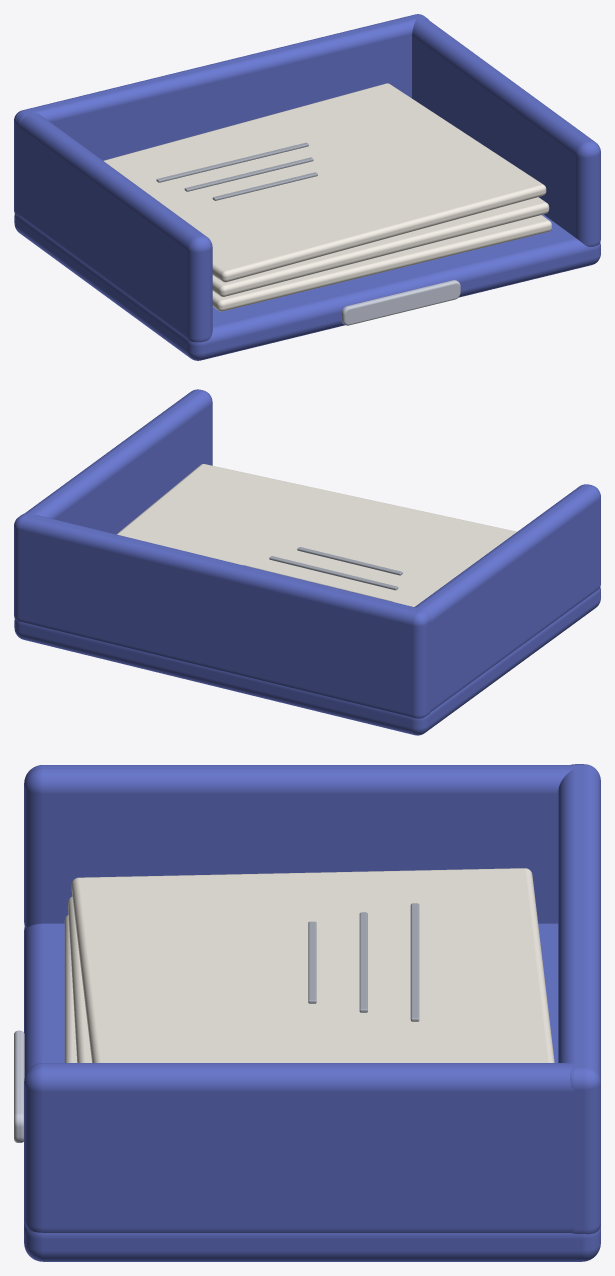
Rendered from document-tray.glb.
3 renders of one model, top to bottom at view 1: azimuth 30°, elevation 25°; view 2: azimuth 150°, elevation 25°; view 3: azimuth 270°, elevation 25°, orthographic. The views are drawn at different scales.
Parts seen in each view (by area): view 1: document-tray; view 2: document-tray; view 3: document-tray.
Part boxes in pixels (bbox=[...]): document-tray: bbox=[14, 14, 600, 360]; document-tray: bbox=[14, 389, 600, 735]; document-tray: bbox=[14, 764, 600, 1261].
Bounding box in the file's own units: 1.75 × 0.5 × 1.37.
